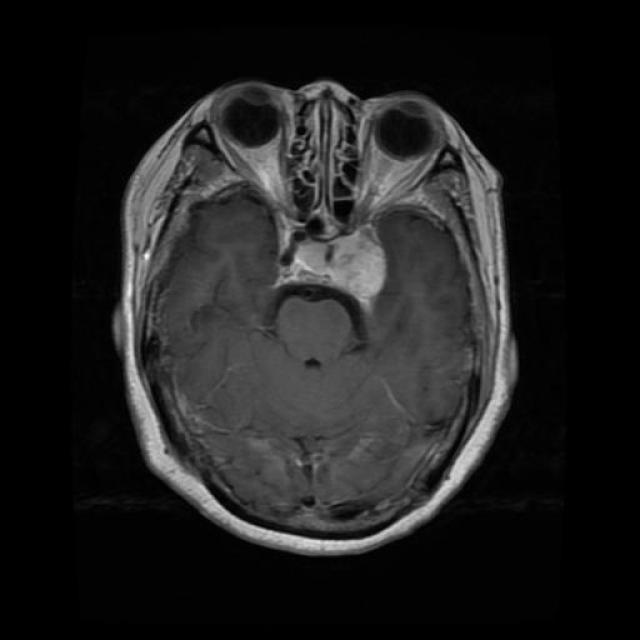meningioma: (326, 240, 386, 308)
